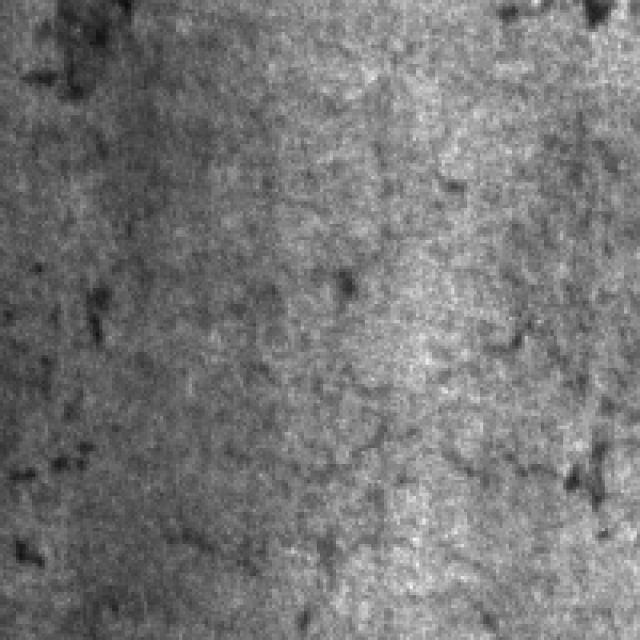crazing: (173, 358, 400, 628), (435, 308, 640, 502)
